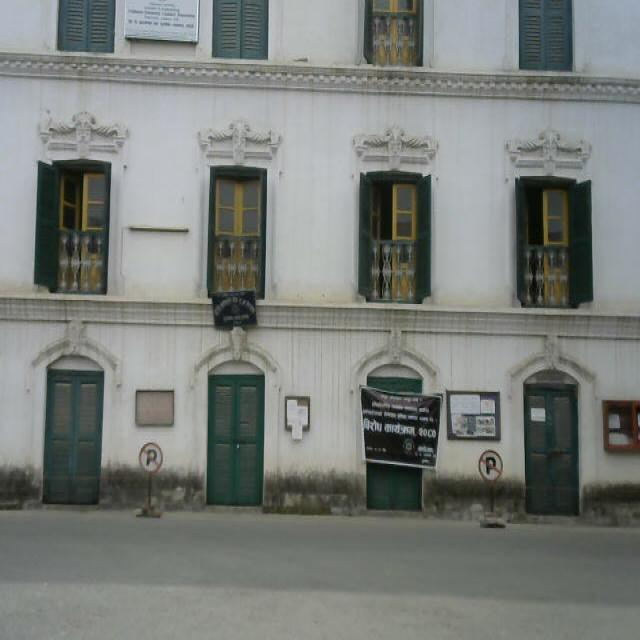Buildings: (2, 2, 640, 462)
NoParking: (469, 443, 525, 551), (138, 435, 170, 546)
Road: (0, 505, 640, 640)
